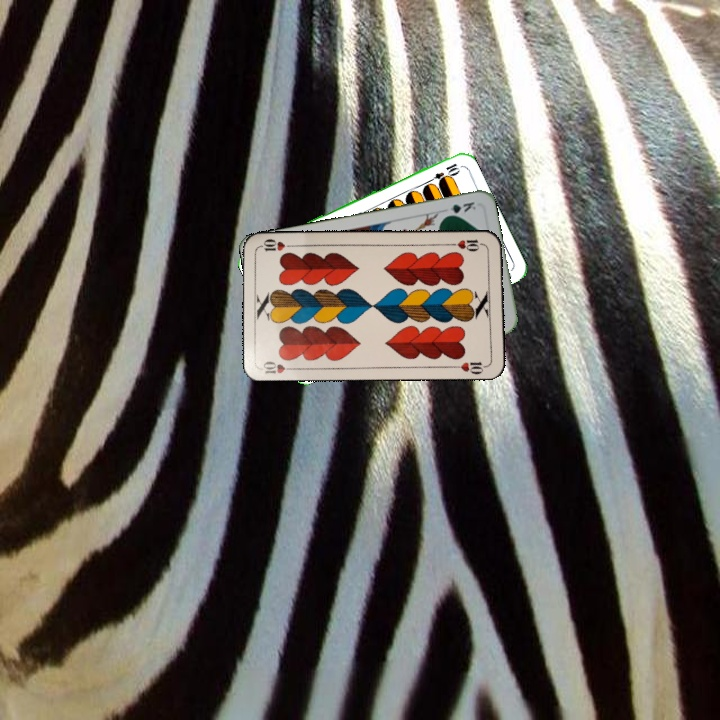E10: (423, 159, 462, 185)
GK: (439, 197, 479, 219)
H10: (259, 357, 299, 376), (446, 236, 487, 253)
